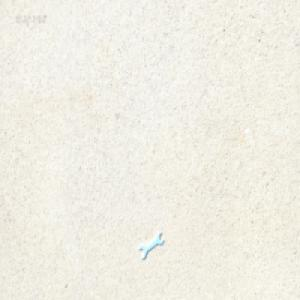Wrench: (139, 231, 164, 260)
